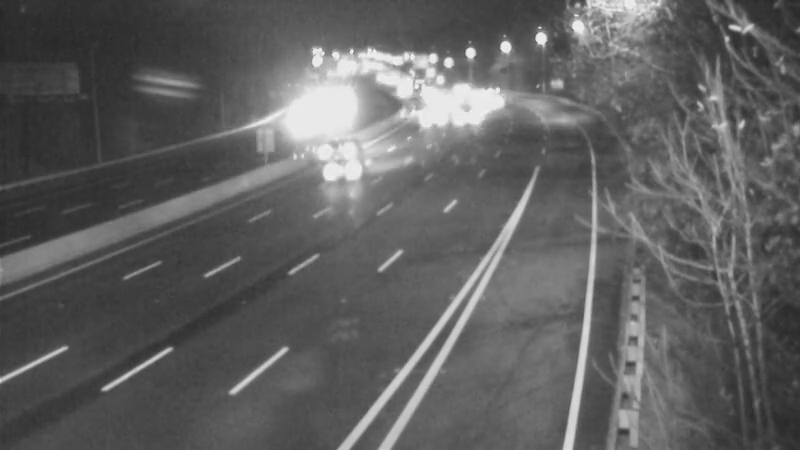vehicle: (309, 131, 389, 211), (458, 77, 508, 127), (444, 92, 494, 142), (406, 91, 456, 141), (303, 123, 353, 173)
